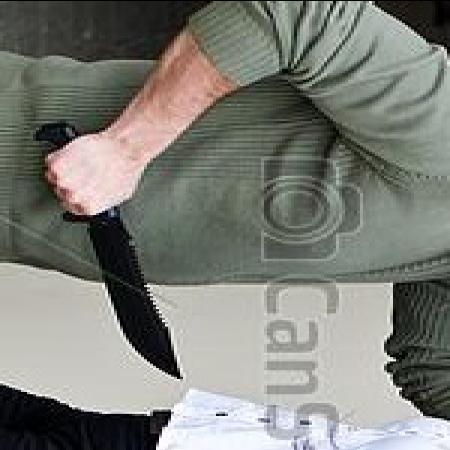long weapon: (45, 162, 195, 380)
